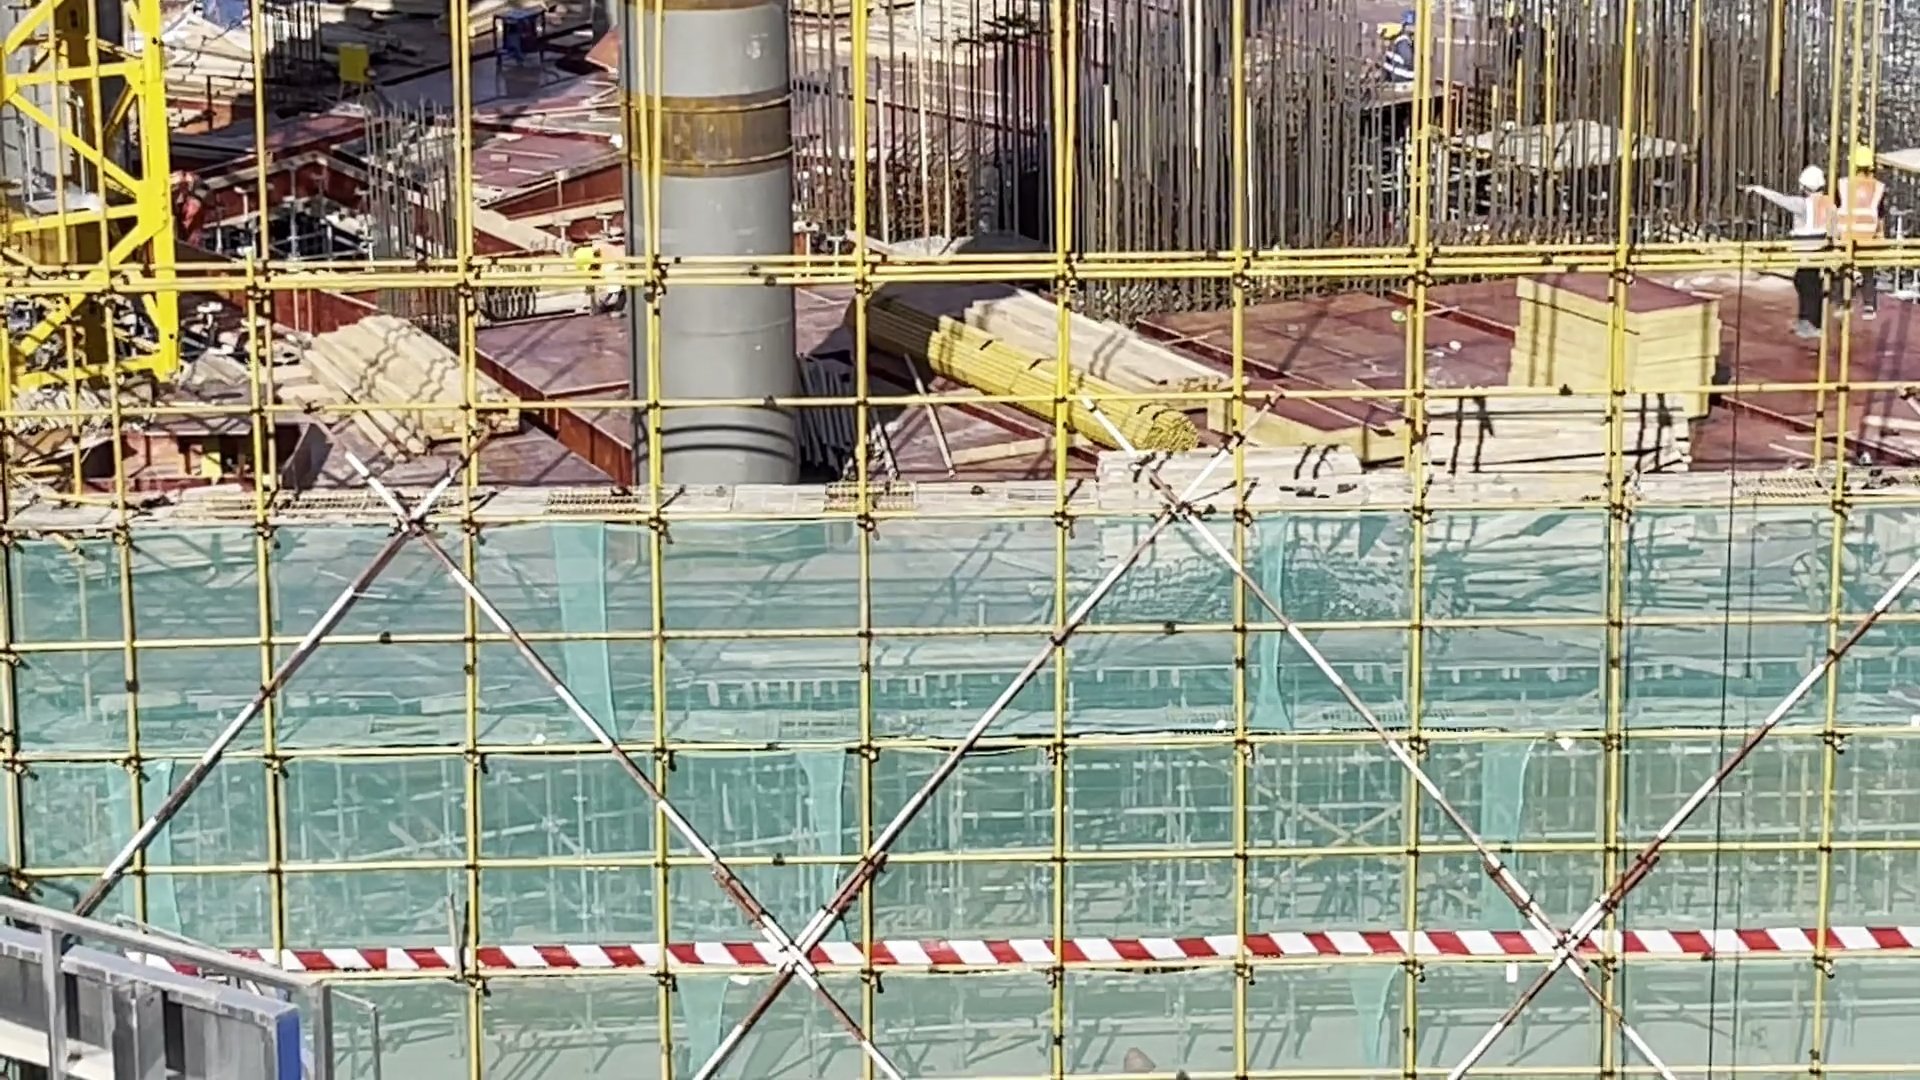helmet: (1378, 19, 1431, 36), (574, 233, 600, 259), (1798, 171, 1818, 197), (1851, 151, 1868, 174), (1523, 26, 1536, 31)
person: (1839, 135, 1889, 325), (1756, 166, 1828, 291), (1513, 15, 1573, 124), (569, 223, 624, 323), (1389, 21, 1433, 111), (174, 161, 219, 245)
vest: (1518, 22, 1574, 67), (1804, 196, 1836, 254), (1388, 29, 1424, 77), (178, 182, 208, 236), (599, 242, 618, 306), (1853, 186, 1874, 239)
